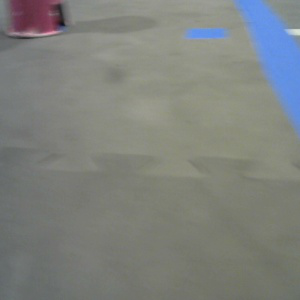middle: (5, 1, 71, 37)
